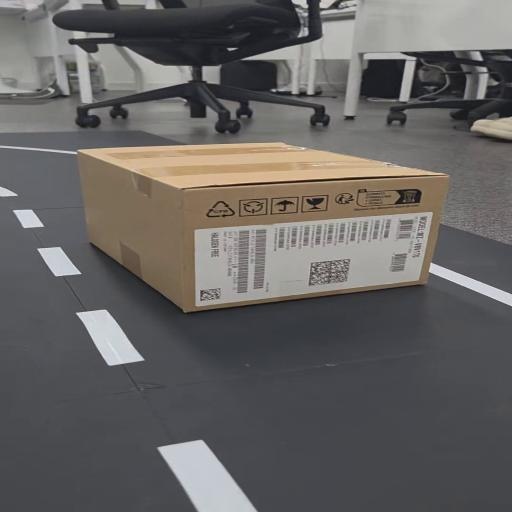Box: (60, 137, 456, 323)
